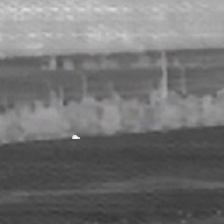Target: (70, 133, 81, 140)
